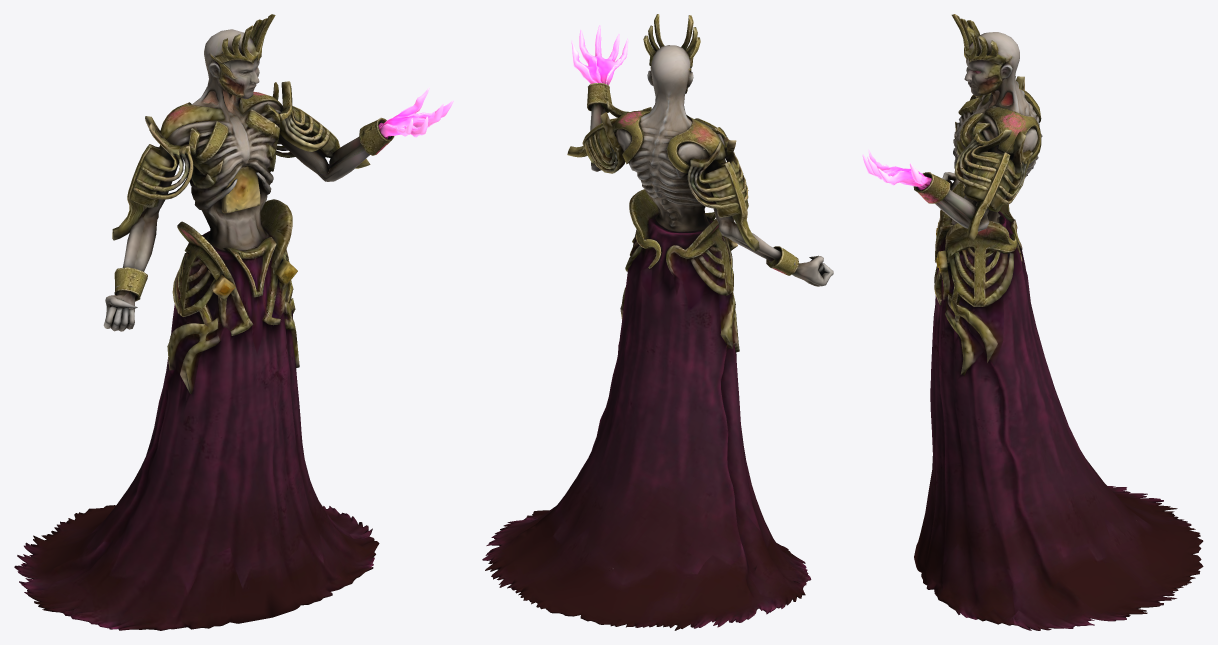
Rendered from MZ4250 - Vecna.glb.
3 views of the same model, side by side, from view 1: azimuth 30°, elevation 25°; view 2: azimuth 150°, elevation 25°; view 3: azimuth 270°, elevation 25° (orthographic). The views are drawn at different scales.
Visible parts, largest first — view 1: Bracer Short.001; view 2: Bracer Short.001; view 3: Bracer Short.001.
Part boxes in pixels (x1,y1,x2,y2): Bracer Short.001: (14,14,453,630); Bracer Short.001: (482,14,833,630); Bracer Short.001: (862,14,1203,630).
Bounding box in the file's own units: 0.6323 × 1.05 × 0.5948.
1 material, 1 textured.
